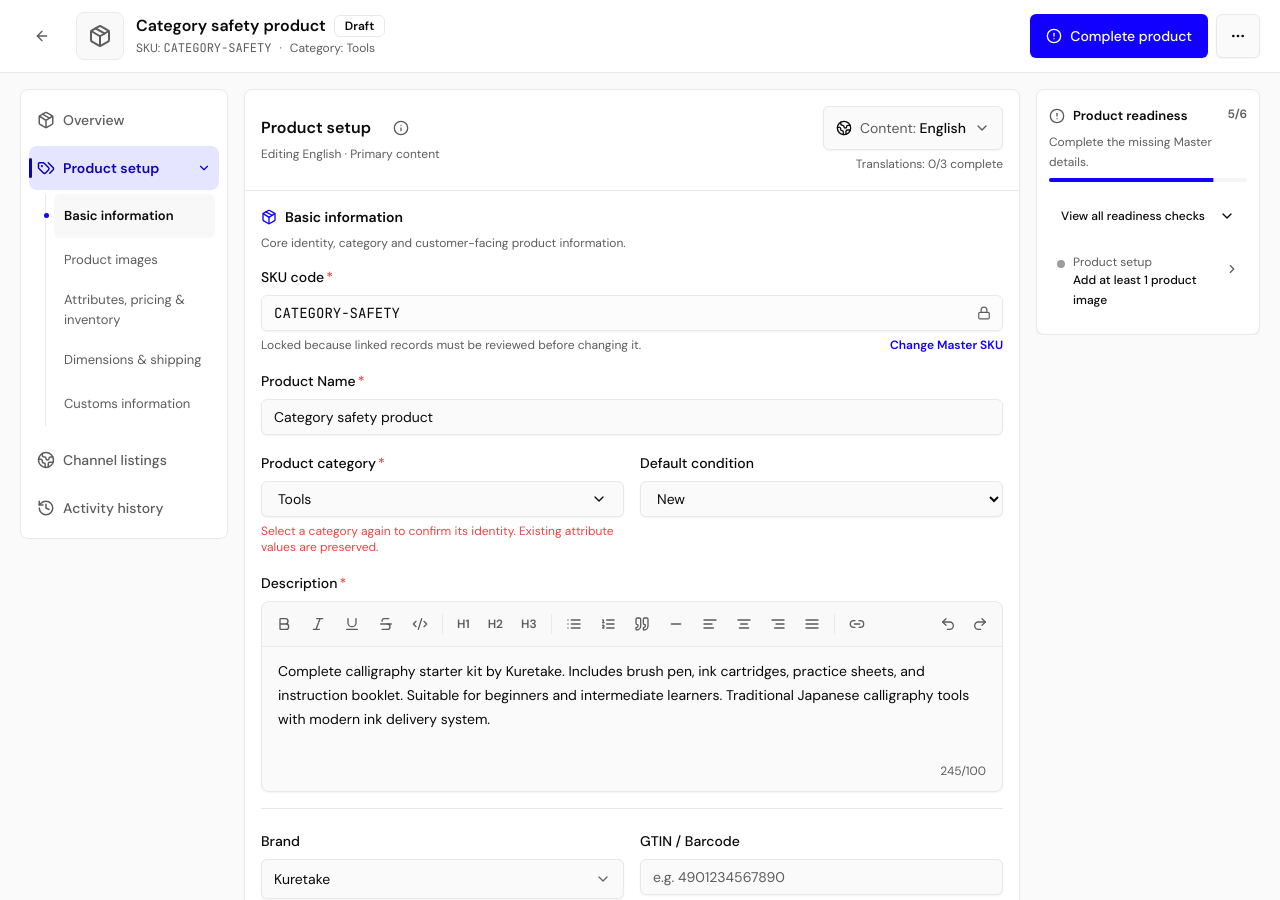
Test: Master category change review › handles an empty category catalog without offering fake fallback categories
Click the button "Tools".
click(295, 499)  # box [261, 481, 624, 517]
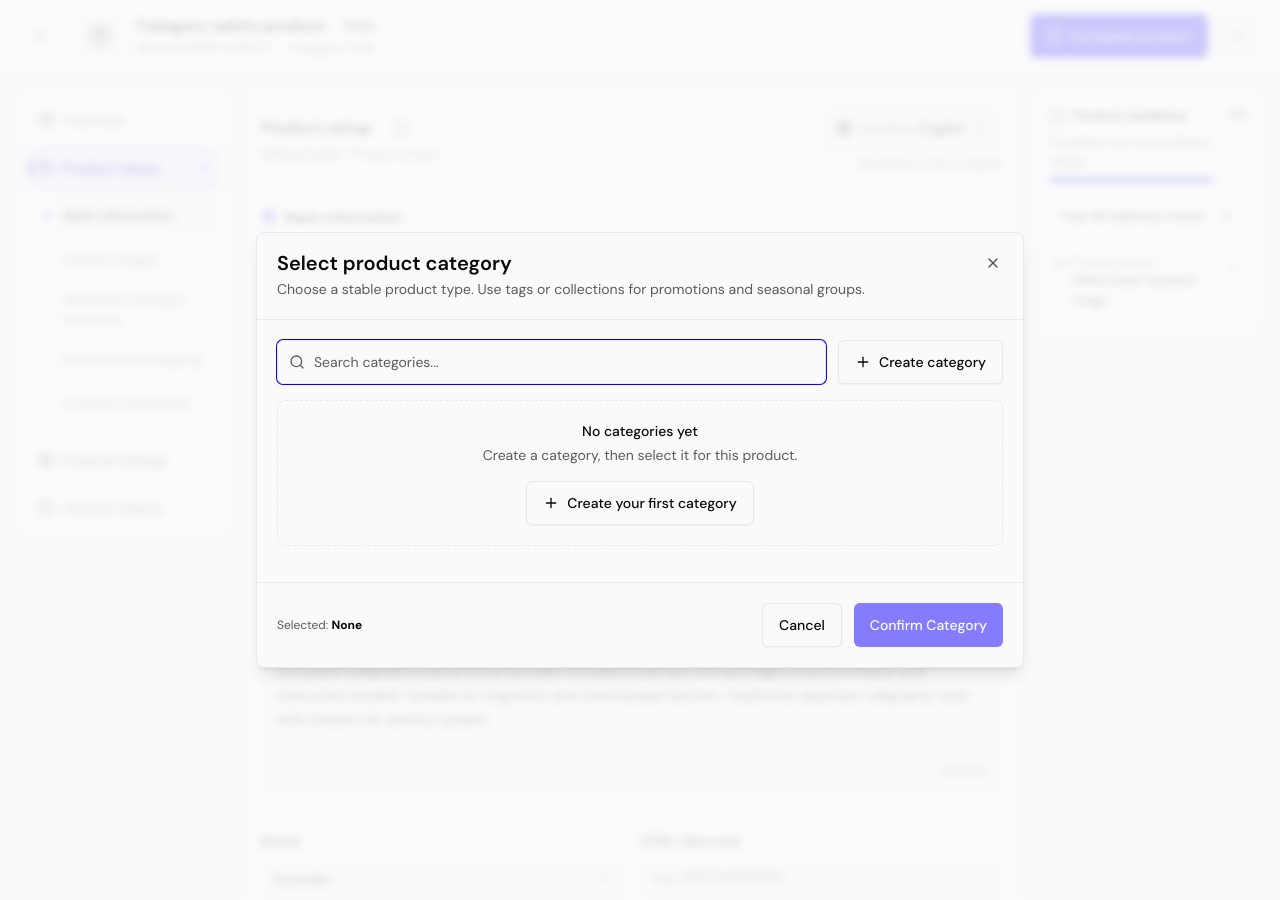
Check: the button "Confirm Category" is disabled, box [854, 603, 1003, 647]
